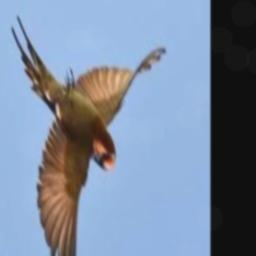Swallow: (11, 14, 167, 256)
